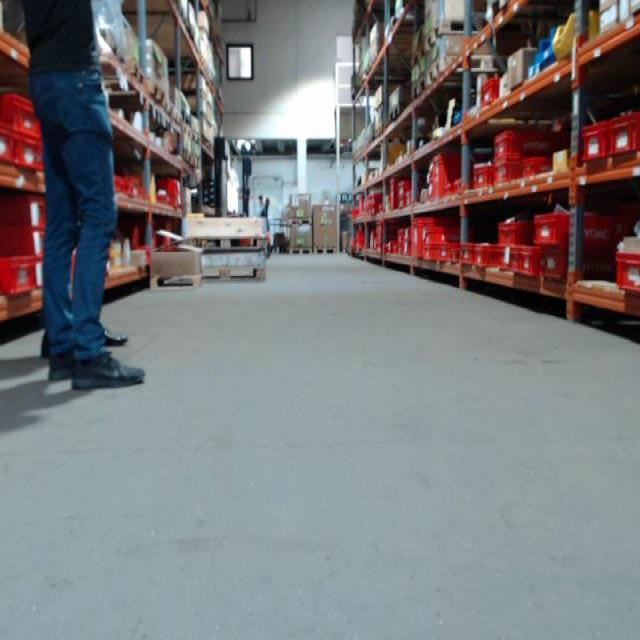pallet: (427, 52, 499, 92), (426, 19, 484, 50), (181, 238, 267, 253), (198, 265, 268, 283), (148, 275, 206, 289), (148, 78, 168, 106), (127, 62, 148, 87), (411, 42, 429, 69), (388, 103, 405, 124), (412, 76, 426, 99), (180, 122, 193, 138), (316, 247, 340, 254), (189, 132, 202, 144), (291, 251, 313, 257), (290, 220, 312, 225)
small_load_carrier: (529, 206, 621, 244), (545, 248, 607, 283), (2, 92, 45, 136), (1, 251, 39, 300), (493, 127, 554, 157), (431, 153, 467, 200), (9, 257, 52, 294), (607, 114, 637, 163), (0, 195, 48, 225), (414, 219, 439, 268), (8, 226, 46, 258), (583, 119, 611, 161), (10, 140, 44, 171), (493, 157, 525, 189), (614, 254, 639, 294), (477, 69, 498, 112), (2, 119, 19, 166), (522, 157, 550, 184), (520, 248, 541, 284), (496, 223, 525, 247), (498, 248, 521, 275), (475, 241, 498, 268), (475, 163, 495, 194), (456, 178, 481, 197), (442, 244, 461, 267), (429, 224, 454, 241), (424, 244, 445, 261), (108, 177, 126, 196), (464, 244, 475, 269), (163, 183, 184, 194), (442, 183, 457, 196), (398, 177, 406, 195), (173, 197, 183, 211), (406, 246, 415, 261), (403, 227, 412, 240), (399, 196, 406, 211)
